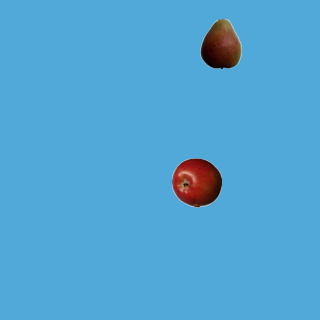Apple Braeburn: (171, 157, 221, 207)
Pear Forelle: (195, 18, 245, 68)
